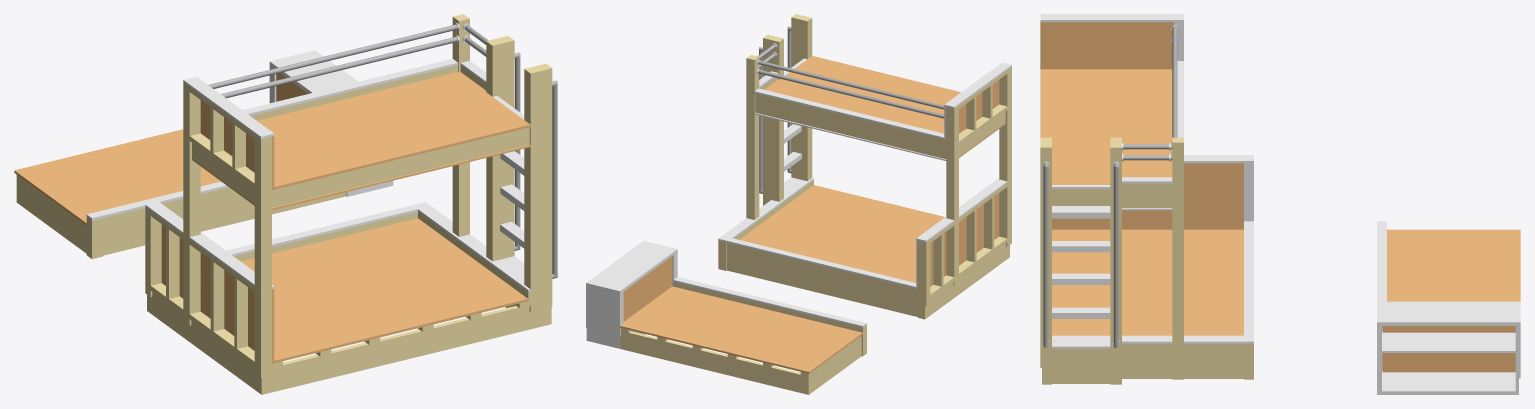
File: bunks.glb
3 views of the same model, side by side, from view 1: azimuth 30°, elevation 25°; view 2: azimuth 150°, elevation 25°; view 3: azimuth 270°, elevation 25° (orthographic). The views are drawn at different scales.
Visible parts, largest first — view 1: queen-platform.004, twin-platform-top.004, bed-platform.004, queen-rail-side.008, twin-rail-side.008, leg.026, leg.024, bed-rail-side.009, leg.027, ladder-leg.006, leg.028, queen-head.004 (+32 smaller); view 2: queen-platform.004, bed-platform.004, twin-platform-top.004, queen-rail-side.009, bed-rail-side.008, twin-rail-side.009, leg.027, leg.025, cabinet-top.004, cabinet-side.012, leg.026, cabinet-back.006 (+27 smaller); view 3: queen-platform.004, twin-platform-top.004, bed-platform.004, twin-head.004, queen-head.004, cabinet-back.006, cabinet-top.004, cabinet-bottom.004, leg.025, cabinet-shelf.004, ladder-leg.007, ladder-leg.006 (+21 smaller).
Part boxes in pixels (bbox=[...]): queen-platform.004: bbox=[241, 218, 528, 363]; twin-platform-top.004: bbox=[257, 72, 530, 189]; bed-platform.004: bbox=[14, 129, 220, 225]; queen-rail-side.008: bbox=[271, 306, 529, 392]; twin-rail-side.008: bbox=[272, 127, 529, 207]; leg.026: bbox=[254, 135, 271, 394]; leg.024: bbox=[524, 66, 541, 329]; bed-rail-side.009: bbox=[86, 187, 346, 255]; leg.027: bbox=[183, 82, 200, 342]; ladder-leg.006: bbox=[535, 63, 552, 326]; leg.028: bbox=[486, 38, 503, 261]; queen-head.004: bbox=[161, 224, 274, 363]; queen-platform.004: bbox=[739, 185, 944, 282]; bed-platform.004: bbox=[620, 286, 862, 373]; twin-platform-top.004: bbox=[764, 56, 960, 133]; queen-rail-side.009: bbox=[727, 242, 917, 316]; bed-rail-side.008: bbox=[620, 331, 810, 394]; twin-rail-side.009: bbox=[755, 93, 946, 158]; leg.027: bbox=[946, 106, 958, 298]; leg.025: bbox=[746, 55, 759, 219]; cabinet-top.004: bbox=[586, 241, 677, 292]; cabinet-side.012: bbox=[586, 283, 621, 348]; leg.026: bbox=[999, 67, 1011, 259]; cabinet-back.006: bbox=[623, 256, 672, 321]; queen-platform.004: bbox=[1052, 229, 1243, 335]; twin-platform-top.004: bbox=[1040, 69, 1172, 184]; bed-platform.004: bbox=[1387, 229, 1520, 301]; twin-head.004: bbox=[1040, 22, 1173, 69]; queen-head.004: bbox=[1052, 163, 1243, 229]; cabinet-back.006: bbox=[1382, 326, 1515, 372]; cabinet-top.004: bbox=[1377, 301, 1520, 325]; cabinet-bottom.004: bbox=[1382, 370, 1517, 394]; leg.025: bbox=[1172, 137, 1183, 379]; cabinet-shelf.004: bbox=[1382, 332, 1515, 352]; ladder-leg.007: bbox=[1110, 142, 1121, 384]; ladder-leg.006: bbox=[1040, 142, 1051, 384].
Size of the model in its own units: 2.55 by 2.01 by 3.65.
